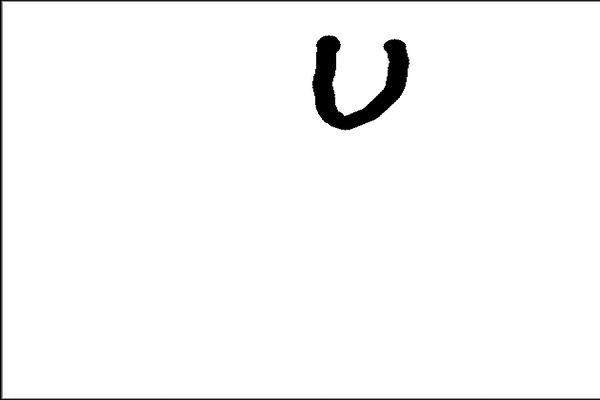U: (304, 23, 412, 134)
